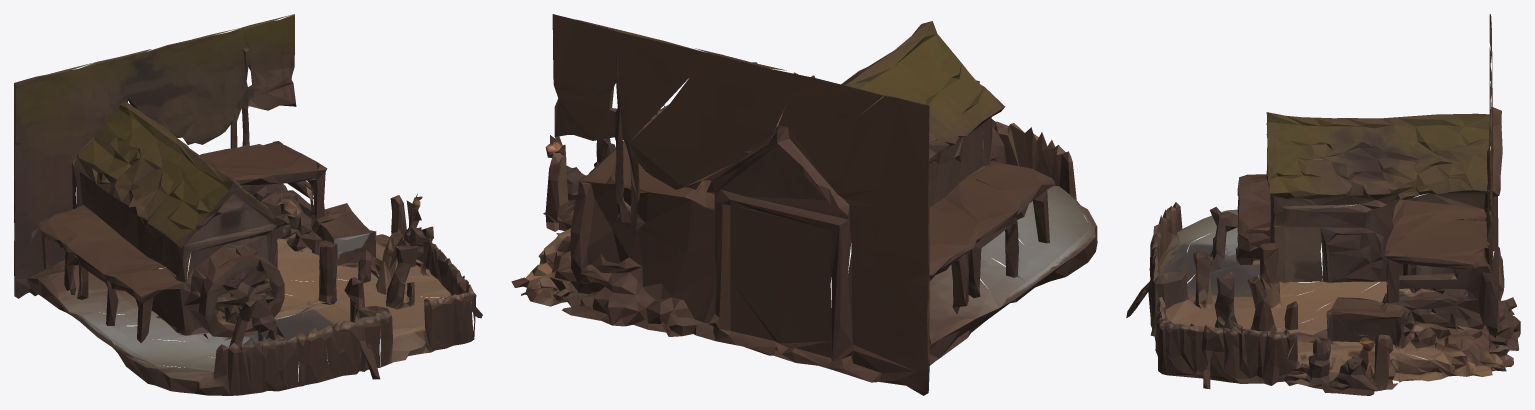
Rendered from sawmill.glb.
3 renders of one model, left to right at view 1: azimuth 30°, elevation 25°; view 2: azimuth 150°, elevation 25°; view 3: azimuth 270°, elevation 25°, orthographic. The views are drawn at different scales.
Parts seen in each view (by area): view 1: geometry_0; view 2: geometry_0; view 3: geometry_0.
Boxes of the visible parts, left/top/right/bottom form: geometry_0: left=14, top=14, right=482, bottom=395; geometry_0: left=511, top=14, right=1097, bottom=395; geometry_0: left=1126, top=14, right=1520, bottom=395.
Size of the model in its own units: 5.2 by 3.13 by 5.06.
1 material, 1 textured.
